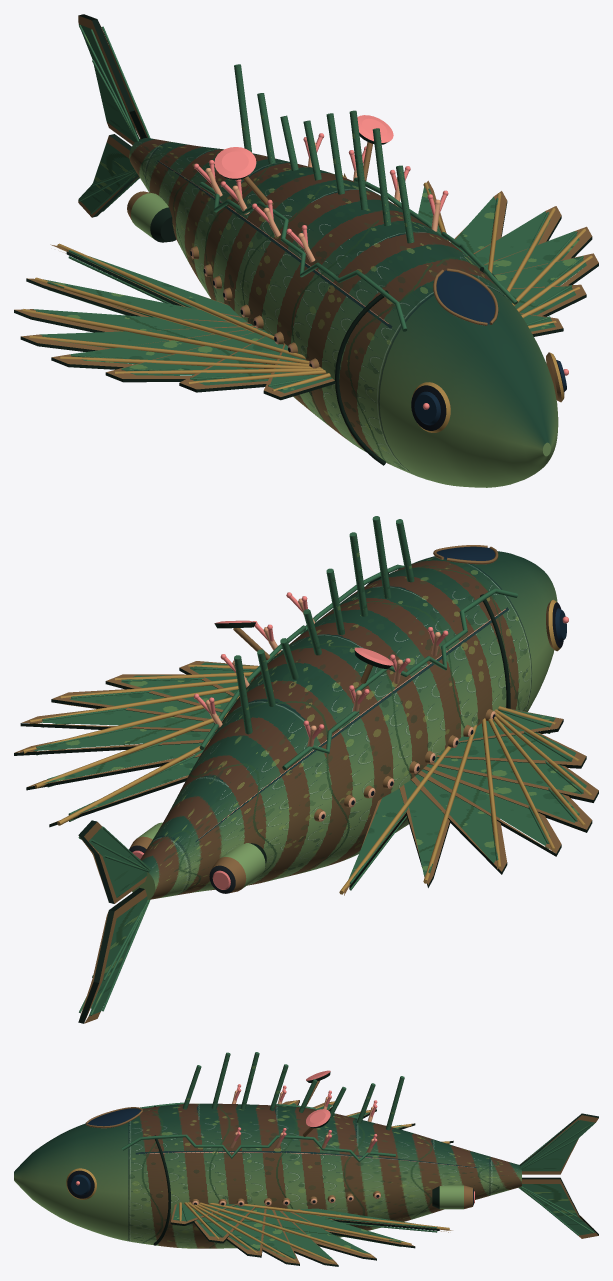
The picture shows the model from 3 angles, top to bottom: view 1: azimuth 30°, elevation 25°; view 2: azimuth 150°, elevation 25°; view 3: azimuth 270°, elevation 25°; orthographic projection. The views are drawn at different scales.
Parts seen in each view (by area): view 1: lionfish_hull; view 2: lionfish_hull; view 3: lionfish_hull.
Boxes of the visible parts, left/top/right/bottom form: lionfish_hull: left=14, top=14, right=598, bottom=487; lionfish_hull: left=14, top=516, right=598, bottom=1023; lionfish_hull: left=14, top=1052, right=598, bottom=1266.
Size of the model in its own units: 25.23 by 13.71 by 38.
Materials: 1 (1 with a texture image).
